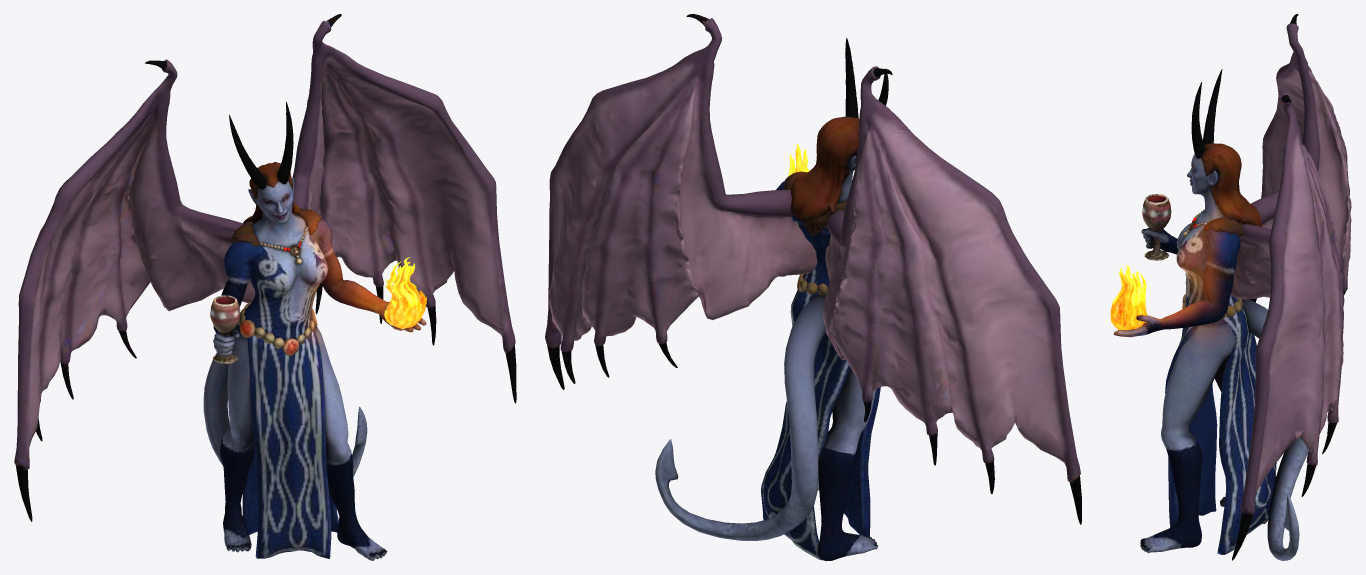
Rendered from MZ4250 - Cambion Female_2025.glb.
3 views of the same model, side by side, from view 1: azimuth 30°, elevation 25°; view 2: azimuth 150°, elevation 25°; view 3: azimuth 270°, elevation 25° (orthographic). The views are drawn at different scales.
Visible parts, largest first — view 1: Wine Glass.001; view 2: Wine Glass.001; view 3: Wine Glass.001.
Part boxes in pixels (left/top/right/bottom): Wine Glass.001: left=14, top=14, right=516, bottom=560; Wine Glass.001: left=545, top=14, right=1081, bottom=560; Wine Glass.001: left=1110, top=14, right=1351, bottom=560.
Bounding box in the file's own units: 121 × 113 × 52.33.
Materials: 1 (1 with a texture image).
